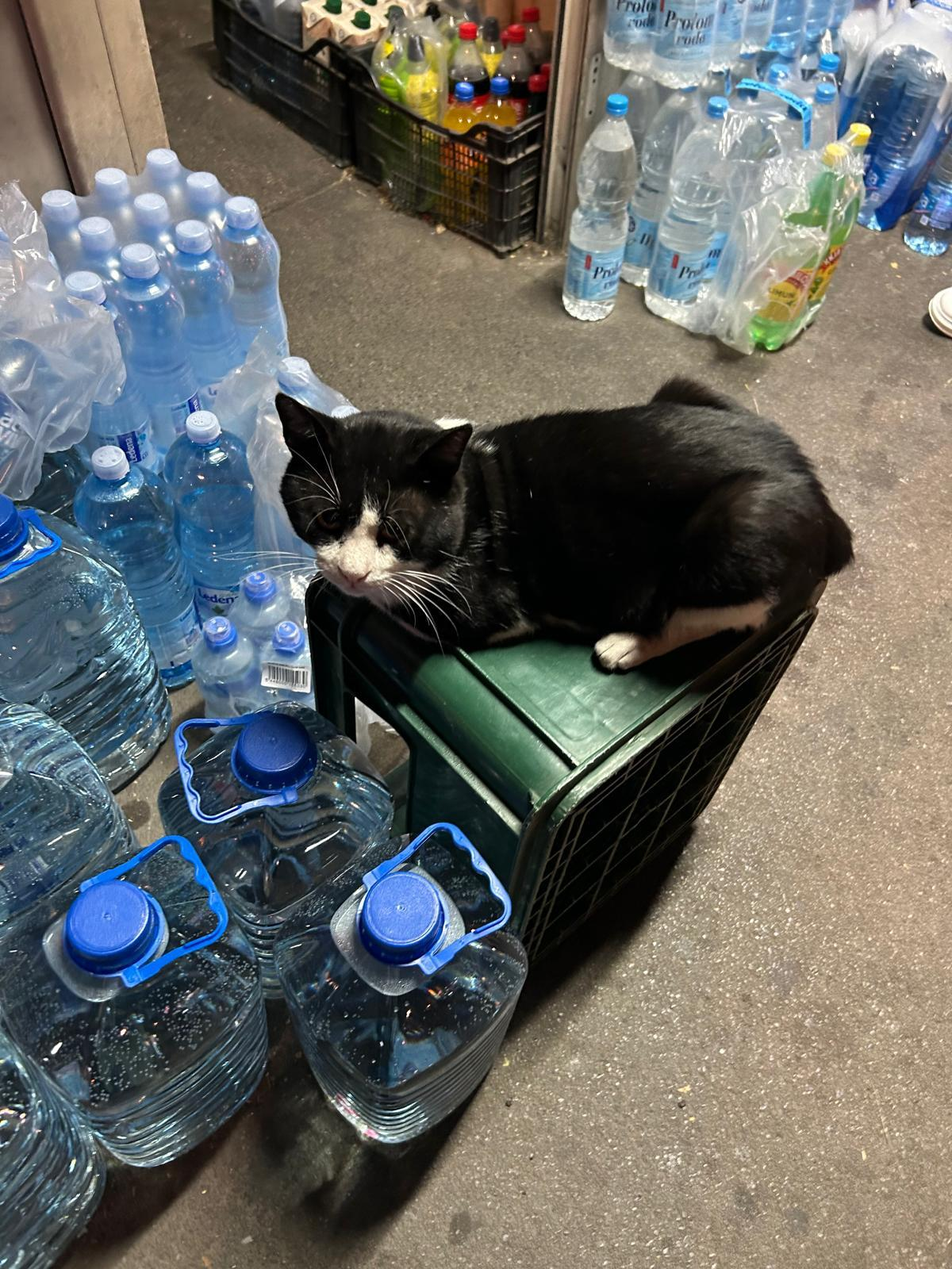macka: (274, 374, 859, 672)
